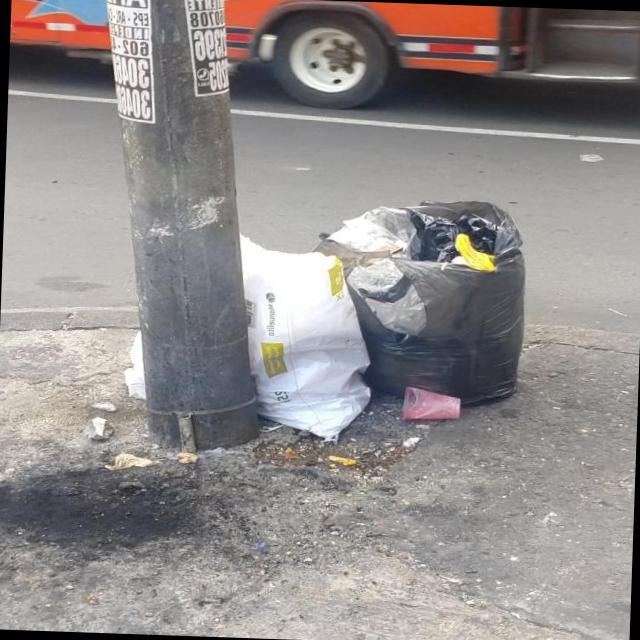high trash: (242, 201, 525, 438)
